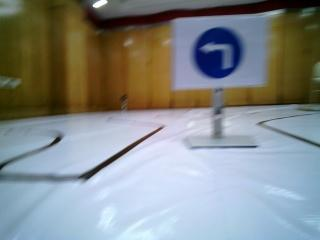left: (173, 22, 261, 85)
